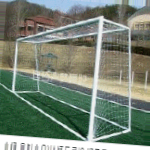goals: (10, 14, 133, 141)
